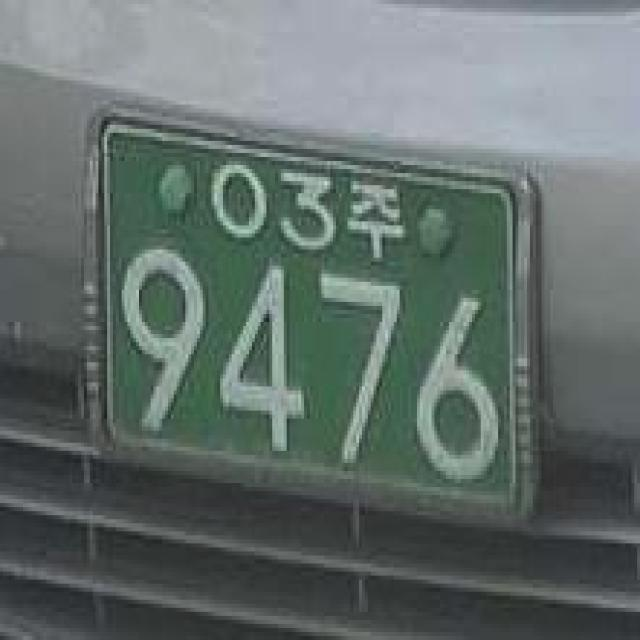illegal_plate: (72, 100, 555, 566)
